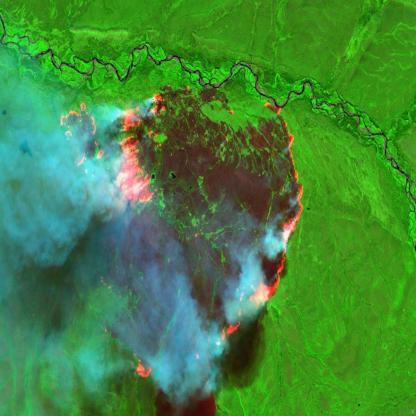fire: (56, 81, 307, 383)
